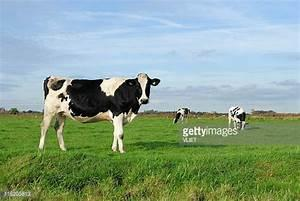cow: (37, 72, 160, 153), (227, 105, 247, 130), (172, 107, 190, 124)
